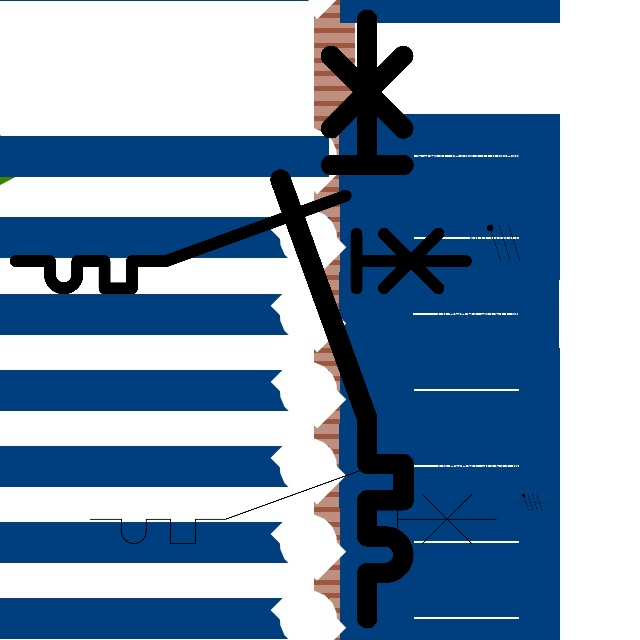interruptor_termomagnetico: (265, 4, 419, 634), (4, 184, 477, 300), (80, 450, 506, 554)
